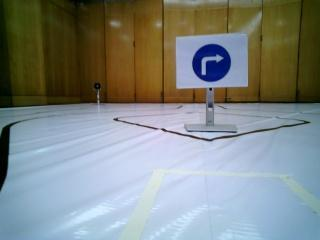right: (179, 37, 242, 85)
